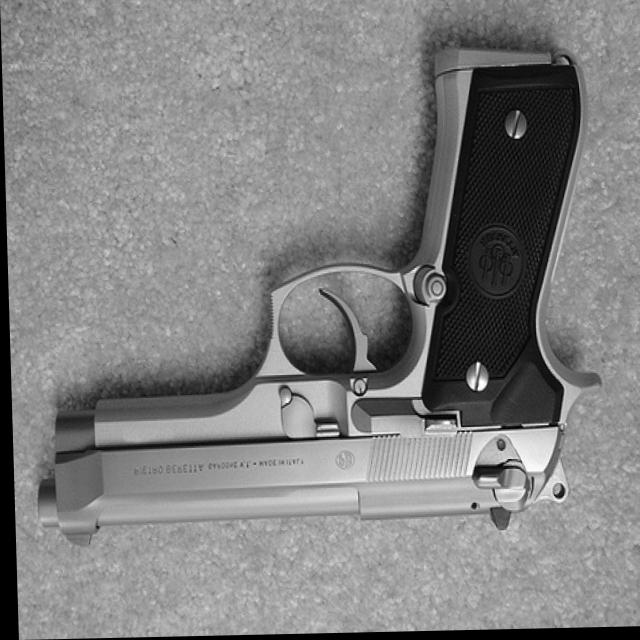handgun: (26, 42, 604, 552)
